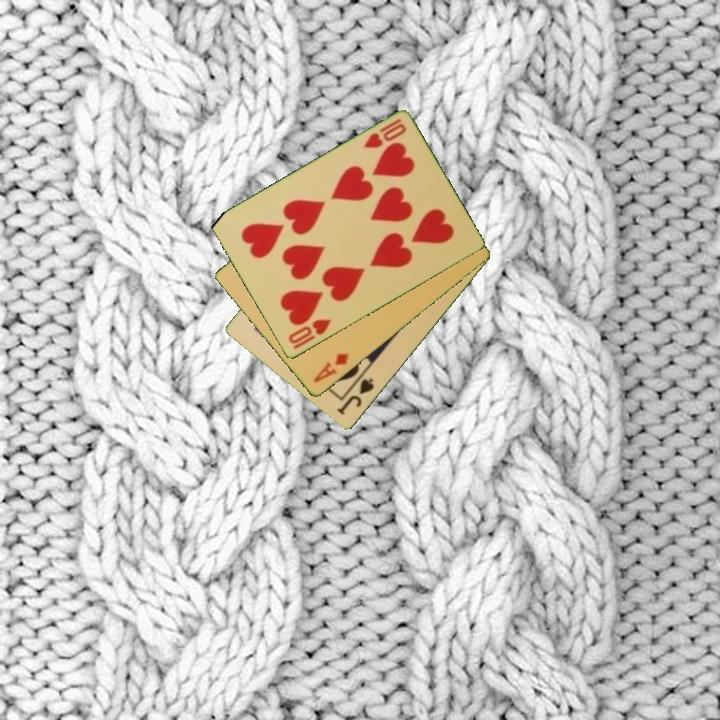10h: (285, 316, 334, 353), (360, 115, 409, 152)
Ad: (309, 350, 352, 386)
Js: (333, 375, 377, 419)
